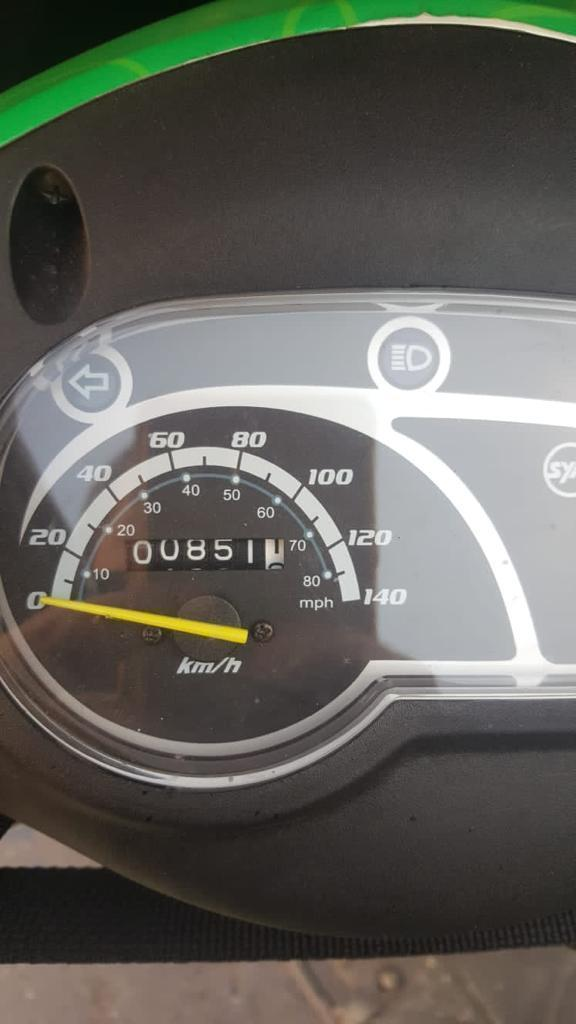0: (130, 538, 153, 566), (158, 536, 180, 561)
1: (244, 536, 256, 565), (268, 536, 283, 556)
5: (211, 537, 234, 563)
8: (185, 537, 207, 562)
odometer: (121, 533, 289, 575)
